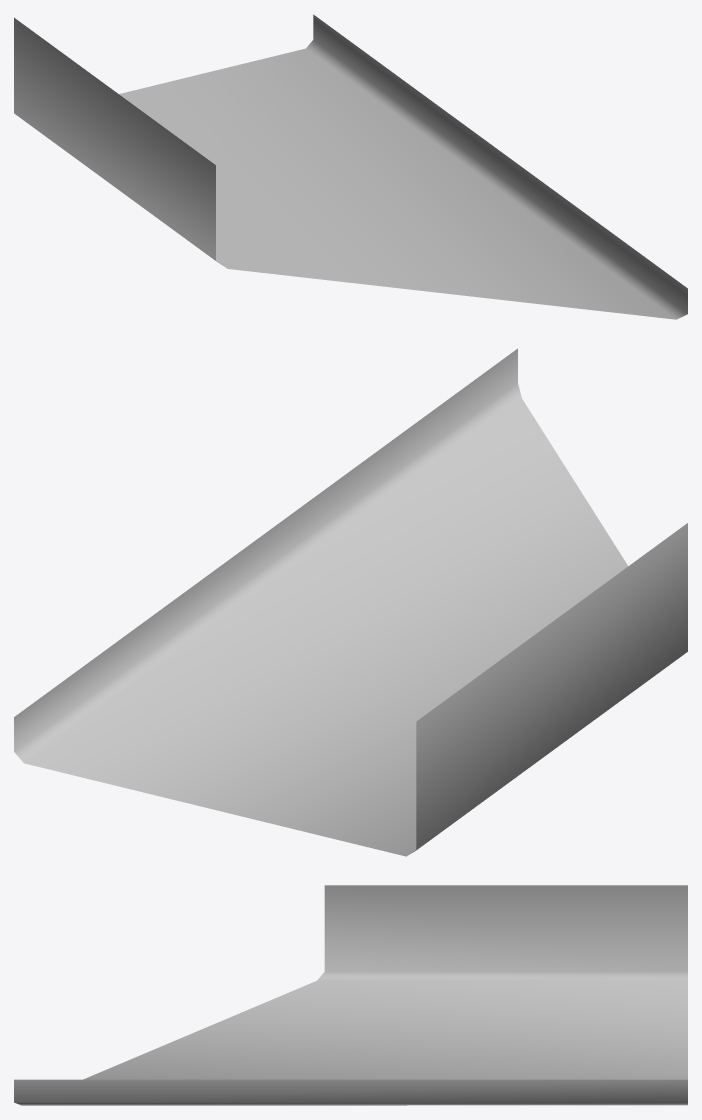
File: Curb_Inner.FBX
The picture shows the model from 3 angles, top to bottom: view 1: azimuth 30°, elevation 25°; view 2: azimuth 150°, elevation 25°; view 3: azimuth 270°, elevation 25°; orthographic projection. The views are drawn at different scales.
Parts seen in each view (by area): view 1: Curb_Inner; view 2: Curb_Inner; view 3: Curb_Inner.
Part boxes in pixels (x1,y1,x2,y2): Curb_Inner: [14, 14, 687, 319]; Curb_Inner: [14, 348, 687, 856]; Curb_Inner: [14, 885, 687, 1105].
Bounding box in the file's own units: 32.26 × 10.54 × 70.
1 material, 1 textured.
